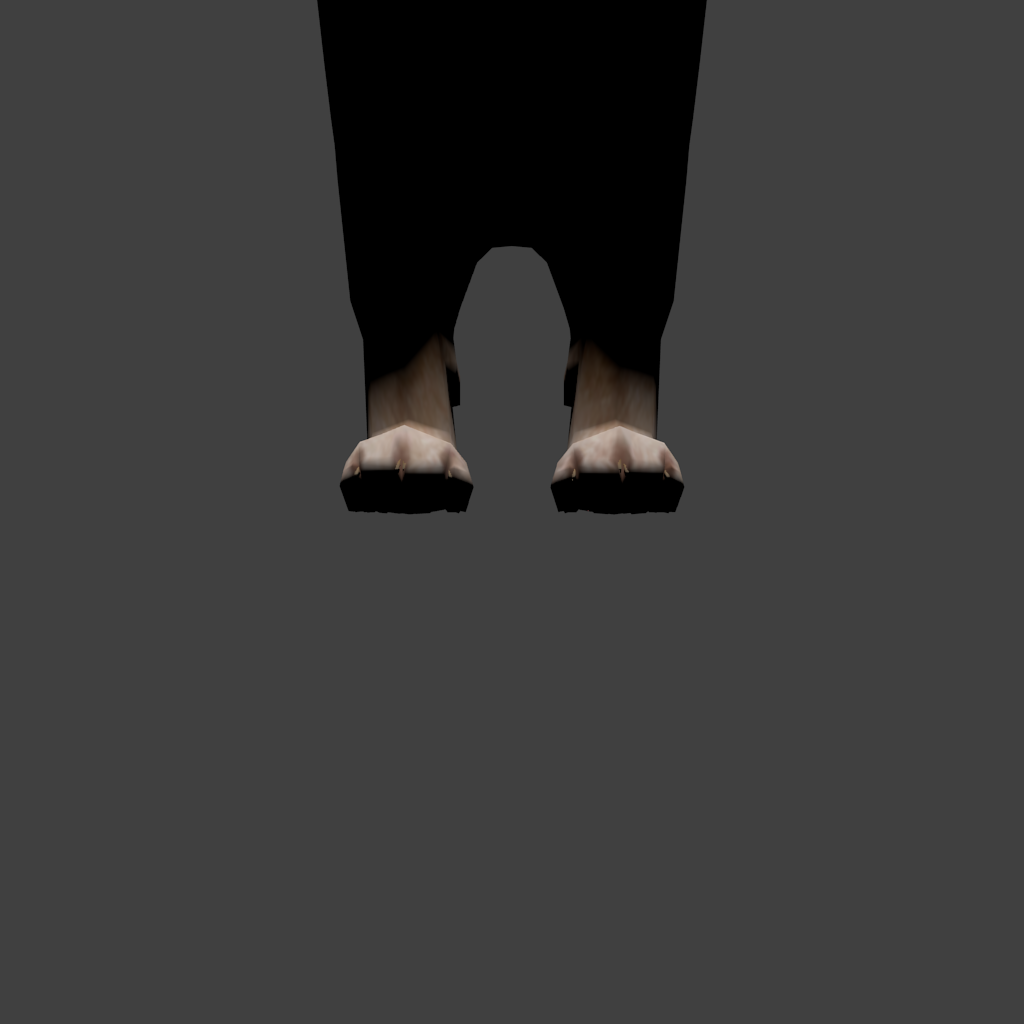Cat: (81, 0, 873, 515)
